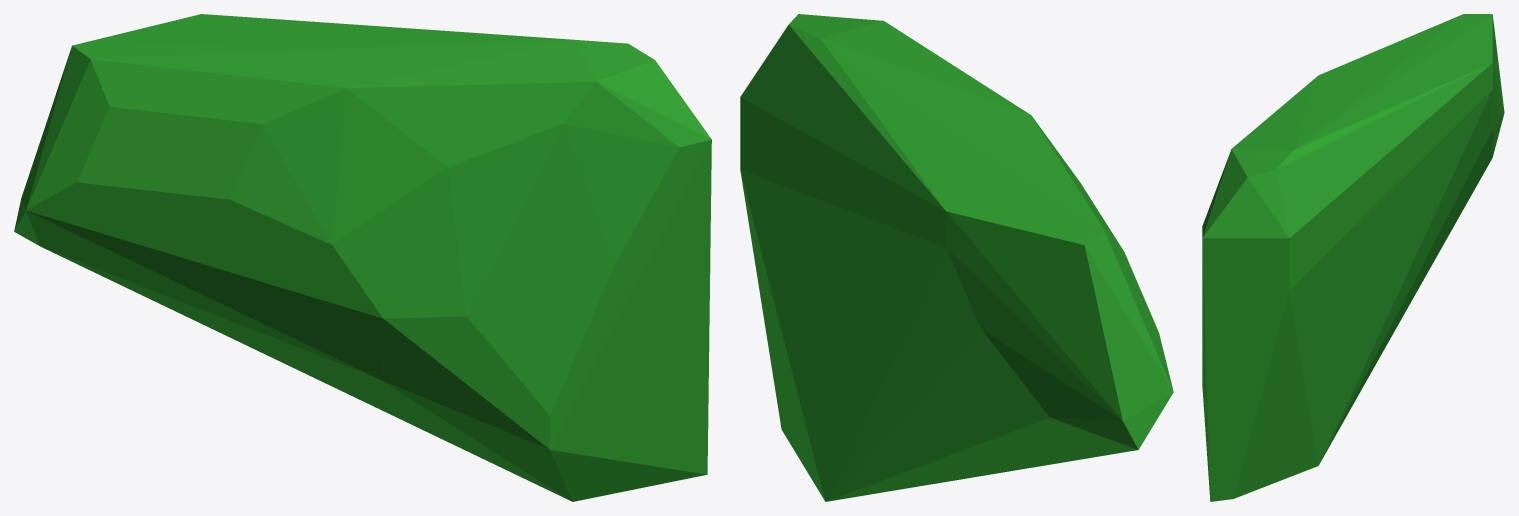
File: mouth_cup012.obj
3 renders of one model, left to right at view 1: azimuth 30°, elevation 25°; view 2: azimuth 150°, elevation 25°; view 3: azimuth 270°, elevation 25°, orthographic. The views are drawn at different scales.
Parts seen in each view (by area): view 1: mouth_cup012_mouth_cup012.001; view 2: mouth_cup012_mouth_cup012.001; view 3: mouth_cup012_mouth_cup012.001.
Part boxes in pixels (x1,y1,x2,y2): mouth_cup012_mouth_cup012.001: (14, 14, 711, 501); mouth_cup012_mouth_cup012.001: (740, 14, 1173, 501); mouth_cup012_mouth_cup012.001: (1202, 14, 1504, 501).
Bounding box in the file's own units: 0.1513 × 0.1162 × 0.0982.
